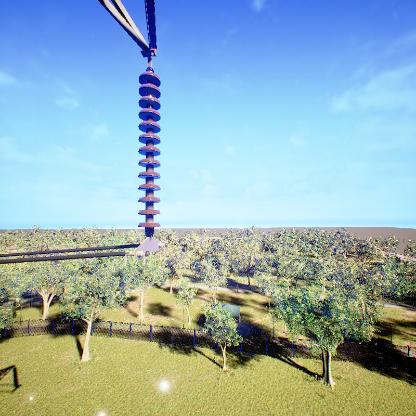insulator: (137, 69, 163, 234)
